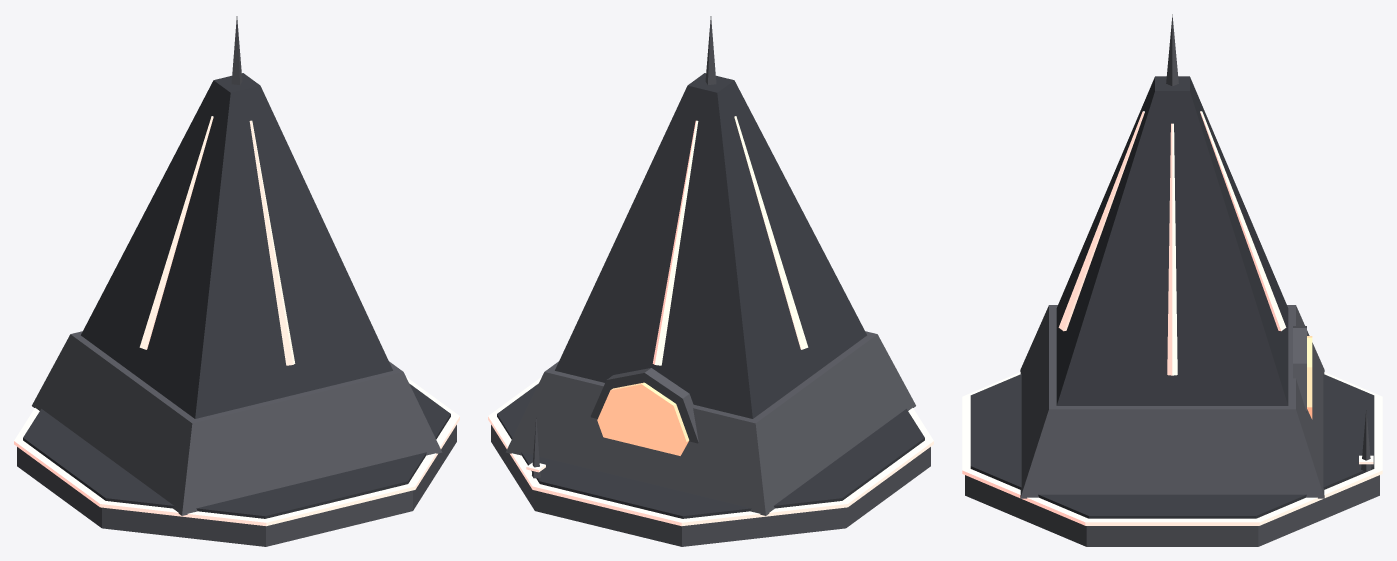
The model's file is zone_high_3_t1.glb.
The picture shows the model from 3 angles, left to right: view 1: azimuth 30°, elevation 25°; view 2: azimuth 150°, elevation 25°; view 3: azimuth 270°, elevation 25°; orthographic projection.
Visible parts, largest first — view 1: zone_high_3_t1; view 2: zone_high_3_t1; view 3: zone_high_3_t1.
Boxes of the visible parts, x1,y1,x2,y2 form: zone_high_3_t1: (14, 16, 459, 546); zone_high_3_t1: (488, 16, 933, 546); zone_high_3_t1: (962, 14, 1382, 546).
Bounding box in the file's own units: 27.35 × 31.95 × 27.35.
